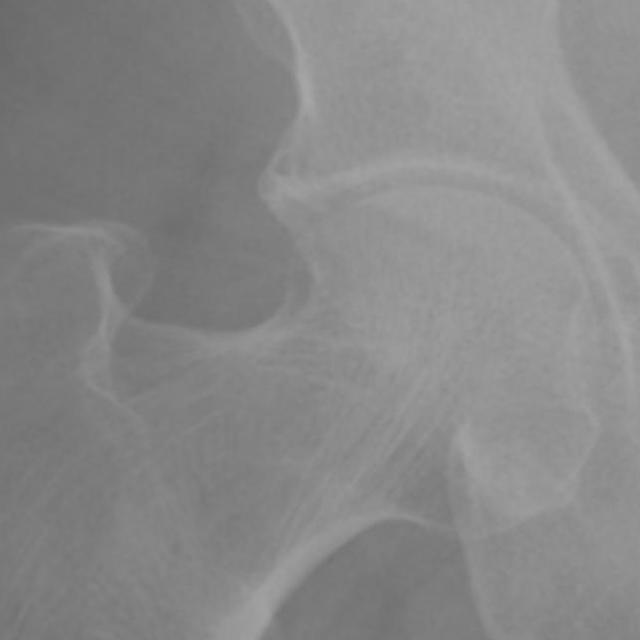Fitted_femural_head: (353, 193, 432, 353)
